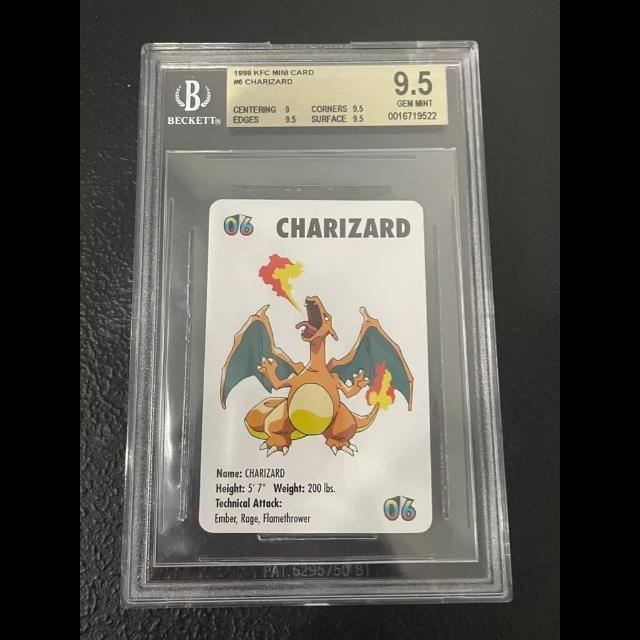bgs_label: (226, 62, 451, 128)
bgs_slab: (119, 41, 517, 610)
card: (197, 198, 436, 534)
